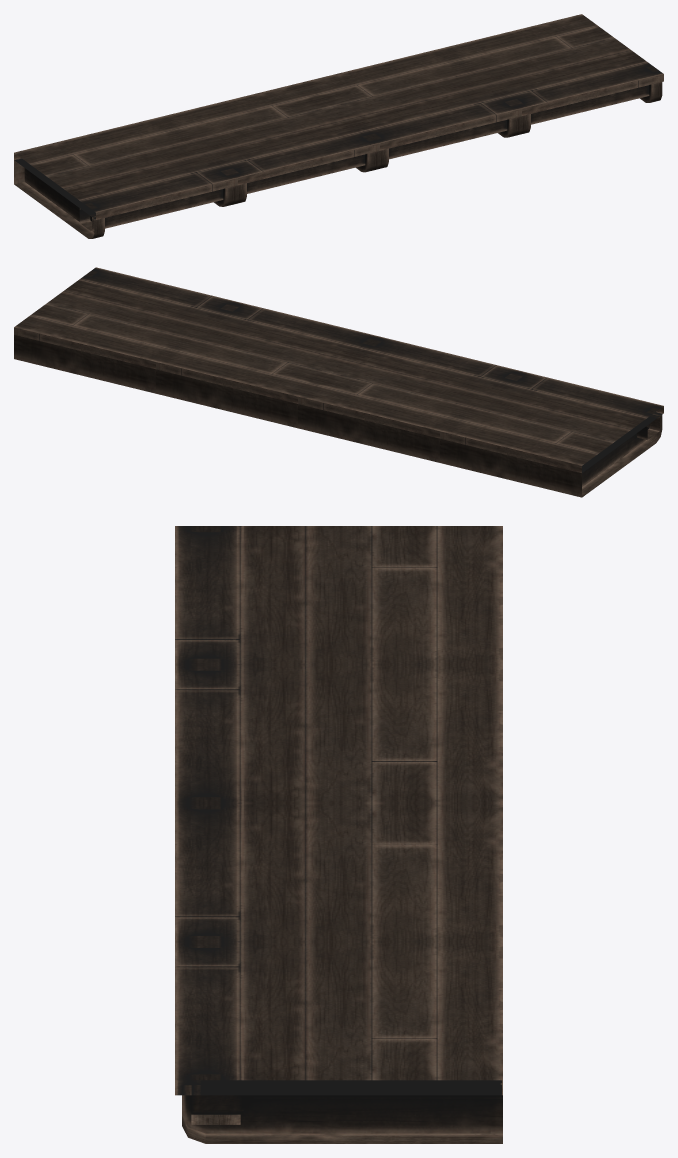
File: Balcony x 8.fbx
The picture shows the model from 3 angles, top to bottom: view 1: azimuth 30°, elevation 25°; view 2: azimuth 150°, elevation 25°; view 3: azimuth 270°, elevation 25°; orthographic projection. The views are drawn at different scales.
Visible parts, largest first — view 1: Balcony x 8; view 2: Balcony x 8; view 3: Balcony x 8.
Boxes of the visible parts, x1,y1,x2,y2 form: Balcony x 8: (14,14,663,238); Balcony x 8: (14,267,663,497); Balcony x 8: (175,526,502,1143).
Bounding box in the file's own units: 8 × 0.4275 × 2.
